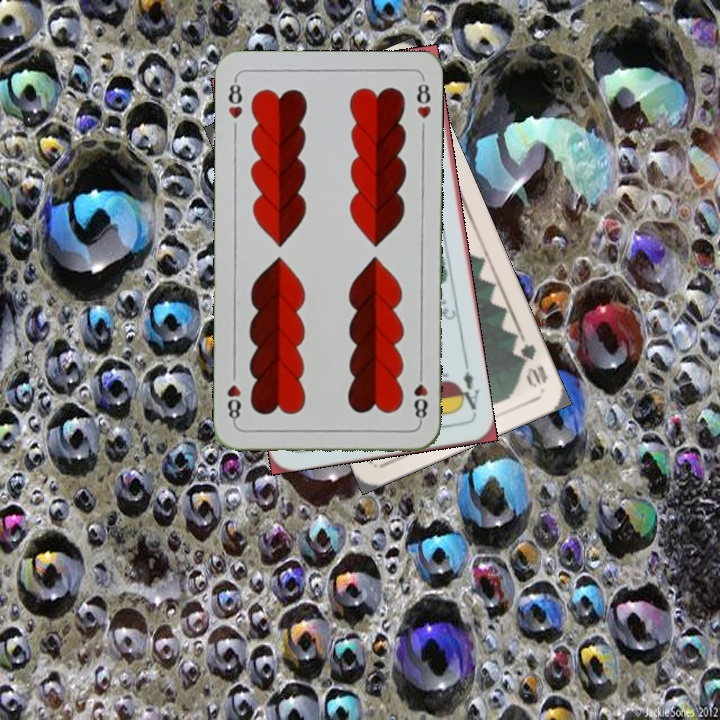EA: (453, 367, 482, 417)
G10: (509, 332, 551, 391)
H8: (410, 366, 431, 425), (224, 75, 245, 121)
